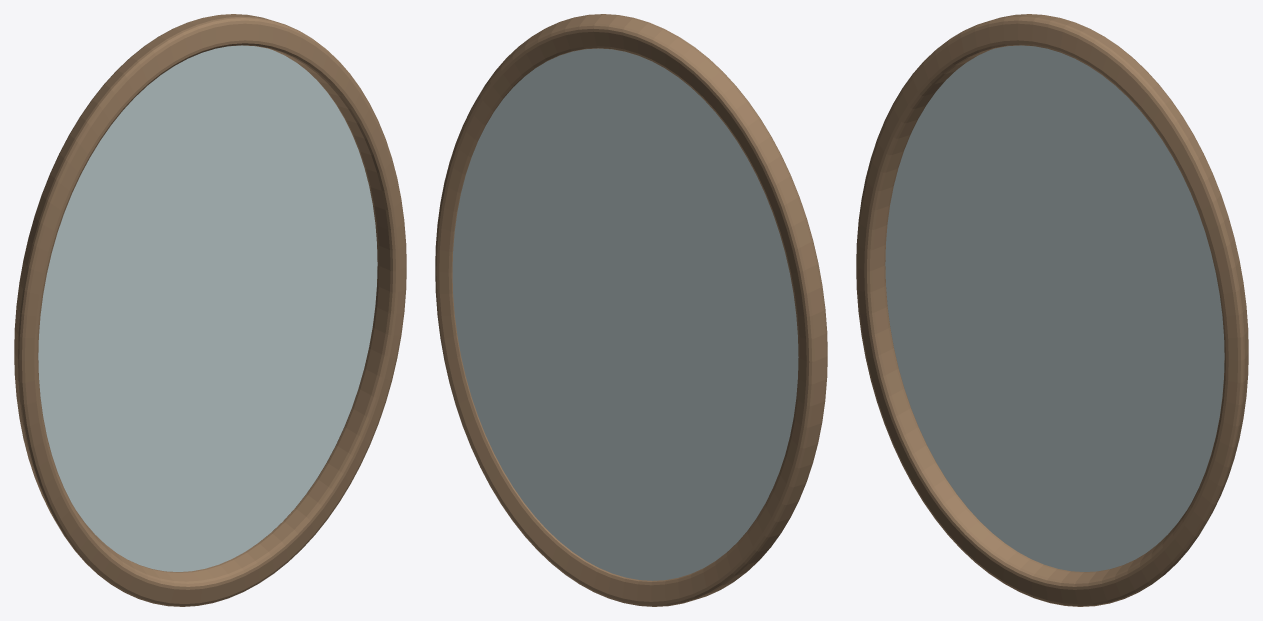
The model's file is espelho-reflexo.glb.
The picture shows the model from 3 angles, left to right: view 1: azimuth 30°, elevation 25°; view 2: azimuth 150°, elevation 25°; view 3: azimuth 330°, elevation 25°; orthographic projection.
Parts seen in each view (by area): view 1: Superficie refletora oval, Moldura oval fina; view 2: Superficie refletora oval, Moldura oval fina; view 3: Superficie refletora oval, Moldura oval fina.
Part boxes in pixels (x1,y1,x2,y2): Superficie refletora oval: (38,45,377,571); Moldura oval fina: (14,14,406,606); Superficie refletora oval: (452,48,798,580); Moldura oval fina: (435,14,827,606); Superficie refletora oval: (885,45,1224,571); Moldura oval fina: (856,14,1248,606).
Size of the model in its own units: 0.4568 by 0.6556 by 0.0309.
